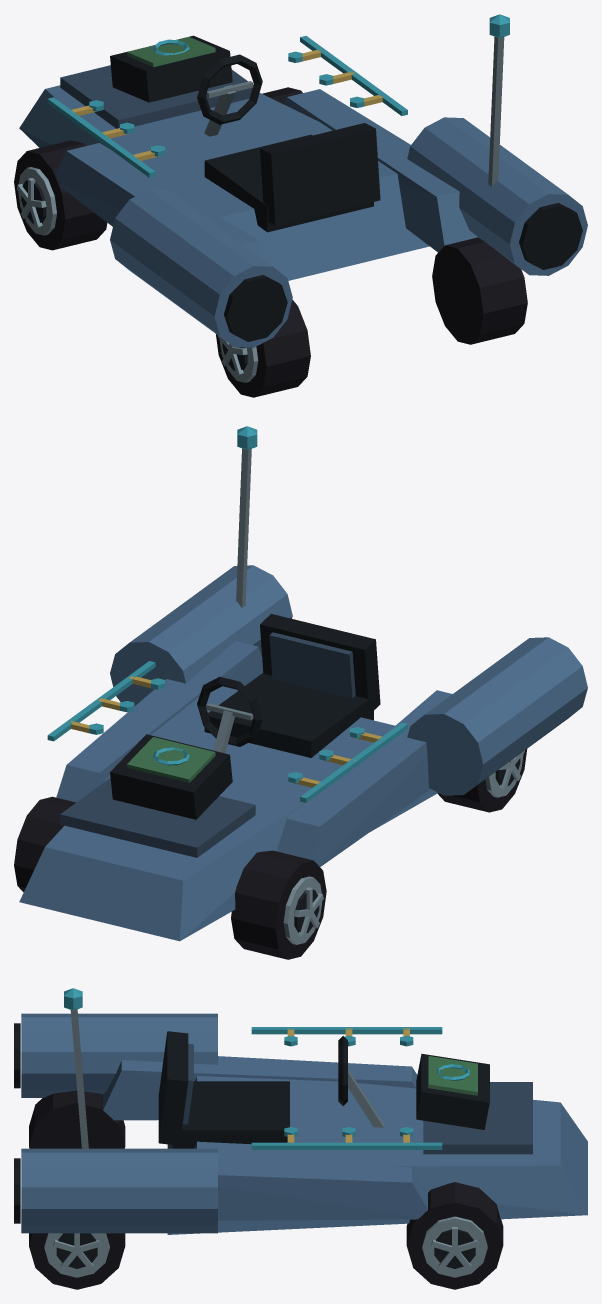
Rendered from kart.glb.
3 views of the same model, one above another, from view 1: azimuth 30°, elevation 25°; view 2: azimuth 150°, elevation 25°; view 3: azimuth 270°, elevation 25° (orthographic). The views are drawn at different scales.
Visible parts, largest first — view 1: identity-speeder-speeder-long-cowl-and-stern-turbines, identity-speeder-driver-cockpit, wheel-rear-right, wheel-front-left, identity-speeder-motif-scanner, wheel-rear-left, identity-speeder-motif-circuit, identity-speeder-motif-antenna; view 2: identity-speeder-speeder-long-cowl-and-stern-turbines, identity-speeder-driver-cockpit, wheel-front-left, identity-speeder-motif-scanner, identity-speeder-motif-circuit, wheel-front-right, wheel-rear-left, identity-speeder-motif-antenna; view 3: identity-speeder-speeder-long-cowl-and-stern-turbines, identity-speeder-driver-cockpit, wheel-front-right, identity-speeder-motif-scanner, wheel-rear-right, wheel-rear-left, identity-speeder-motif-circuit, identity-speeder-motif-antenna.
Boxes of the visible parts, x1=… form: identity-speeder-speeder-long-cowl-and-stern-turbines: x1=19, y1=65, x2=587, y2=347; identity-speeder-driver-cockpit: x1=197, y1=54, x2=380, y2=232; wheel-rear-right: x1=432, y1=237, x2=527, y2=344; wheel-front-left: x1=14, y1=140, x2=107, y2=250; identity-speeder-motif-scanner: x1=110, y1=35, x2=232, y2=102; wheel-rear-left: x1=216, y1=299, x2=310, y2=397; identity-speeder-motif-circuit: x1=47, y1=35, x2=407, y2=177; identity-speeder-motif-antenna: x1=488, y1=14, x2=509, y2=186; identity-speeder-speeder-long-cowl-and-stern-turbines: x1=19, y1=565, x2=587, y2=941; identity-speeder-driver-cockpit: x1=197, y1=614, x2=380, y2=757; wheel-front-left: x1=231, y1=850, x2=326, y2=959; identity-speeder-motif-scanner: x1=110, y1=734, x2=232, y2=819; identity-speeder-motif-circuit: x1=47, y1=661, x2=407, y2=802; wheel-front-right: x1=14, y1=796, x2=75, y2=892; wheel-rear-left: x1=437, y1=749, x2=527, y2=812; identity-speeder-motif-antenna: x1=236, y1=426, x2=257, y2=607; identity-speeder-speeder-long-cowl-and-stern-turbines: x1=14, y1=1013, x2=587, y2=1234; identity-speeder-driver-cockpit: x1=158, y1=1031, x2=383, y2=1148; wheel-front-right: x1=406, y1=1182, x2=503, y2=1289; identity-speeder-motif-scanner: x1=416, y1=1053, x2=489, y2=1129; wheel-rear-right: x1=29, y1=1233, x2=125, y2=1289; wheel-rear-left: x1=29, y1=1090, x2=125, y2=1148; identity-speeder-motif-circuit: x1=251, y1=1027, x2=442, y2=1149; identity-speeder-motif-antenna: x1=64, y1=988, x2=88, y2=1148.
Bounding box in the file's own units: 2.1 × 1.72 × 2.98.
